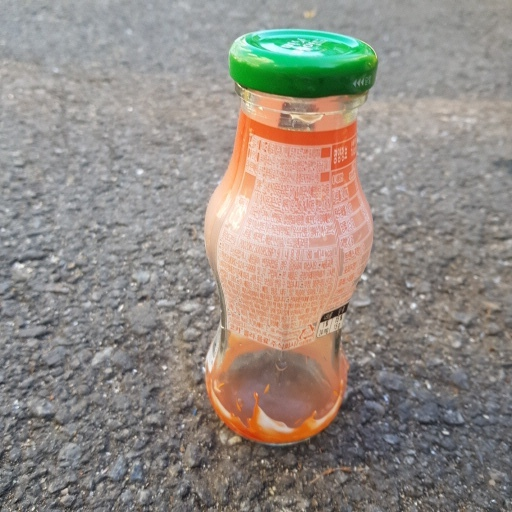Glass_4: (199, 24, 379, 450)
